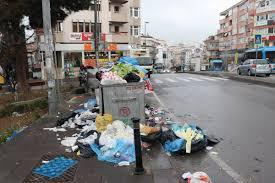Container: (97, 84, 146, 124)
Garbage: (153, 114, 228, 161), (91, 61, 149, 87), (104, 123, 132, 165), (65, 133, 92, 166), (183, 167, 225, 182), (50, 118, 87, 135), (177, 126, 201, 149), (75, 101, 97, 124), (89, 112, 115, 130), (161, 132, 181, 155), (99, 69, 119, 84), (121, 69, 140, 83), (139, 124, 154, 138)
